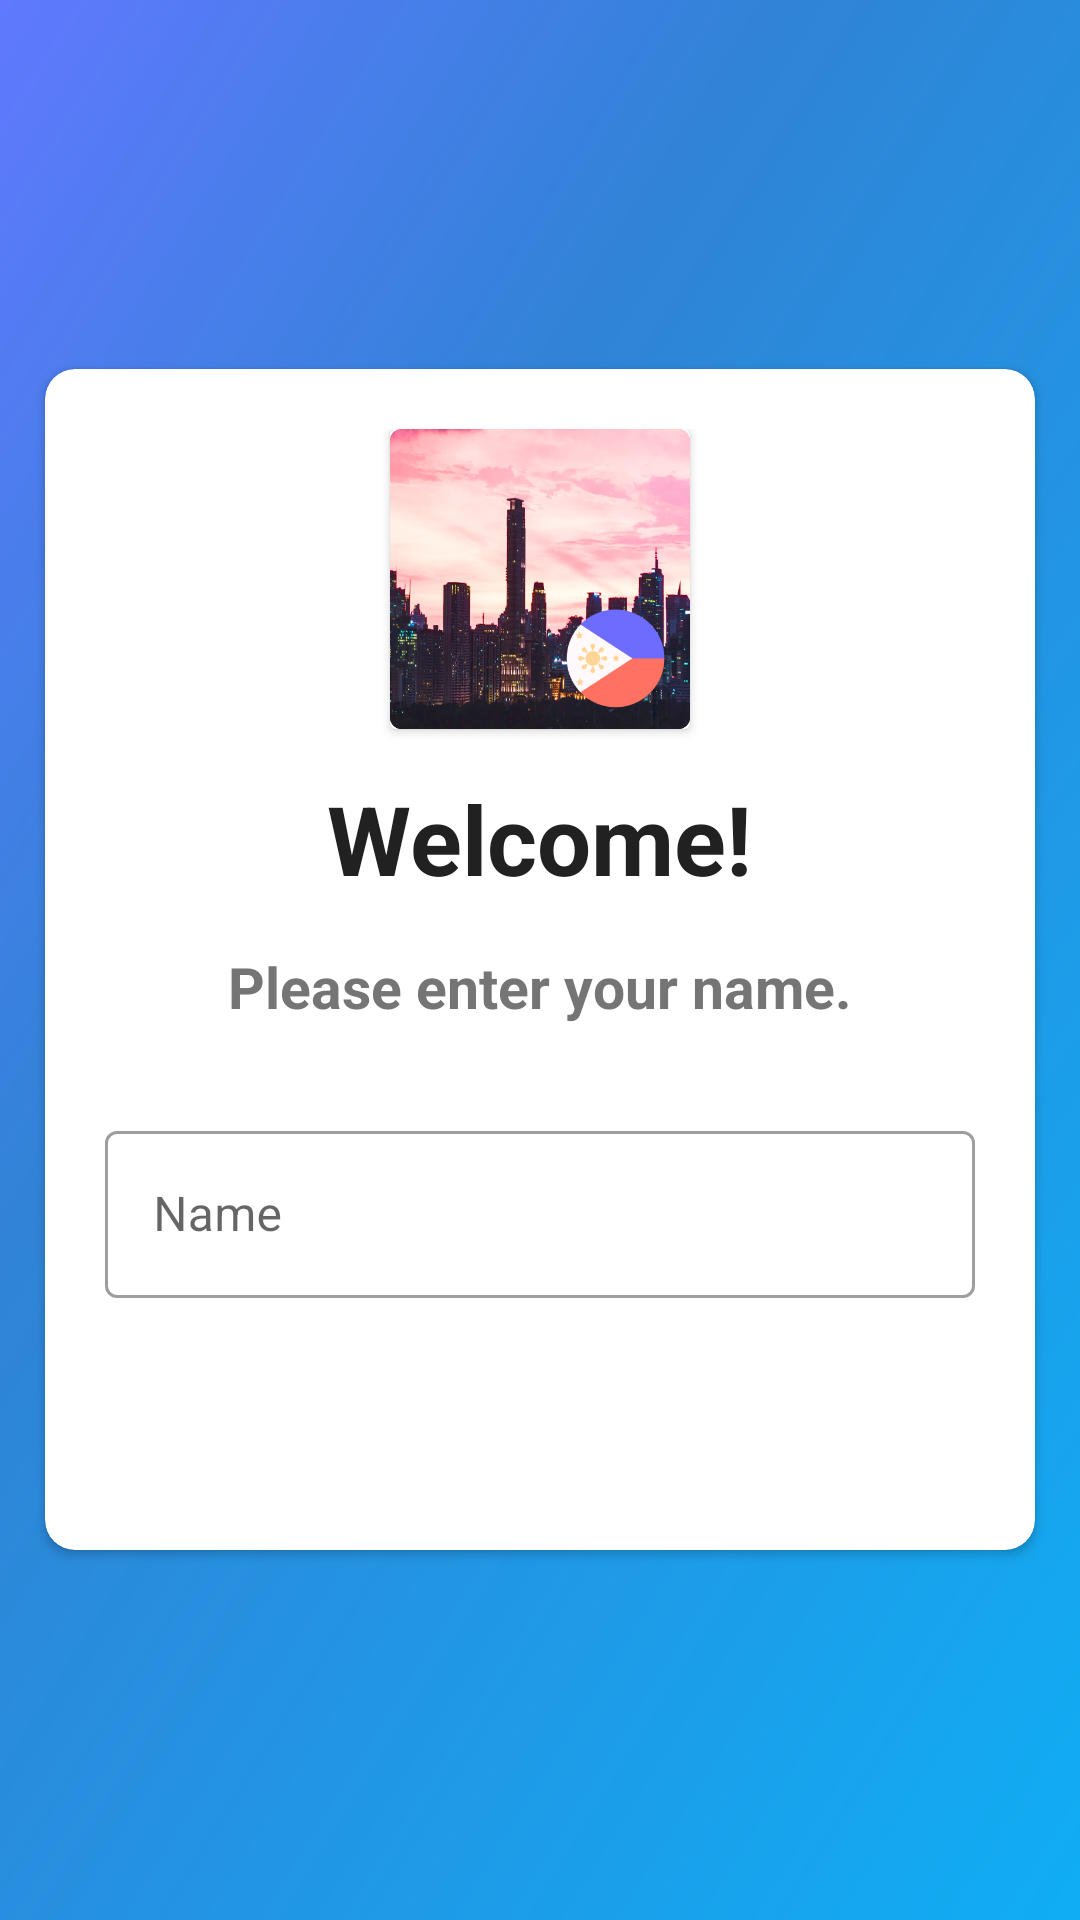

Icon bounding boxes for this 1080x1920 phone screenshot, format (x1, y1, x2, y2):
cities: (390, 429, 690, 729)
